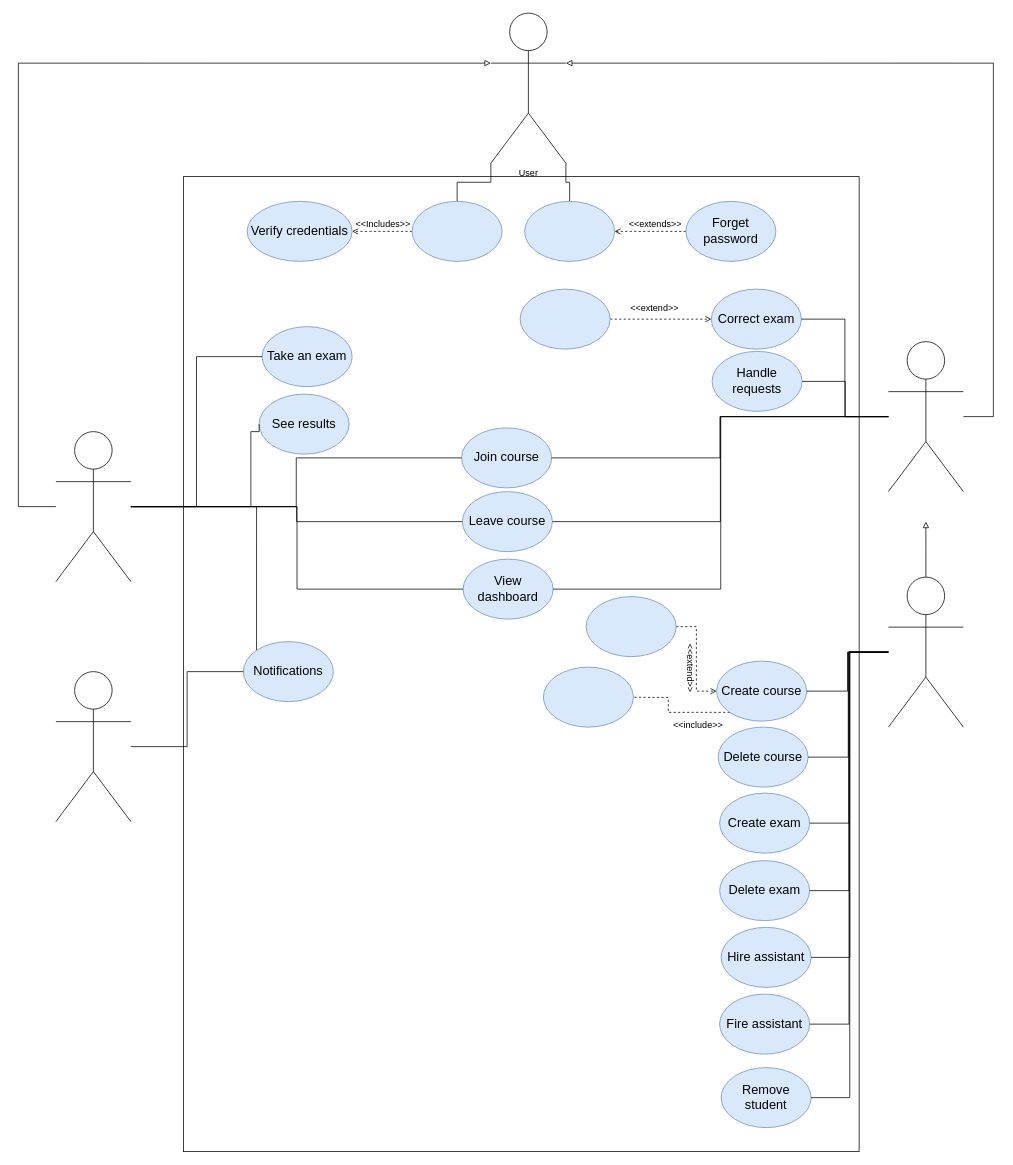
This 1013x1165 diagram has some shape labels left out. The centre of each missing label's shape, as x and y in pixels:
"Assistant" belongs at pixel 925 416.
"Auto correction" belongs at pixel 564 318.
"Login" belongs at pixel 569 231.
"Private" belongs at pixel 630 626.
"Public" belongs at pixel 588 696.
"Sign up" belongs at pixel 456 231.
"Student" belongs at pixel 93 506.
"System" belongs at pixel 93 746.
"Teacher" belongs at pixel 925 651.
